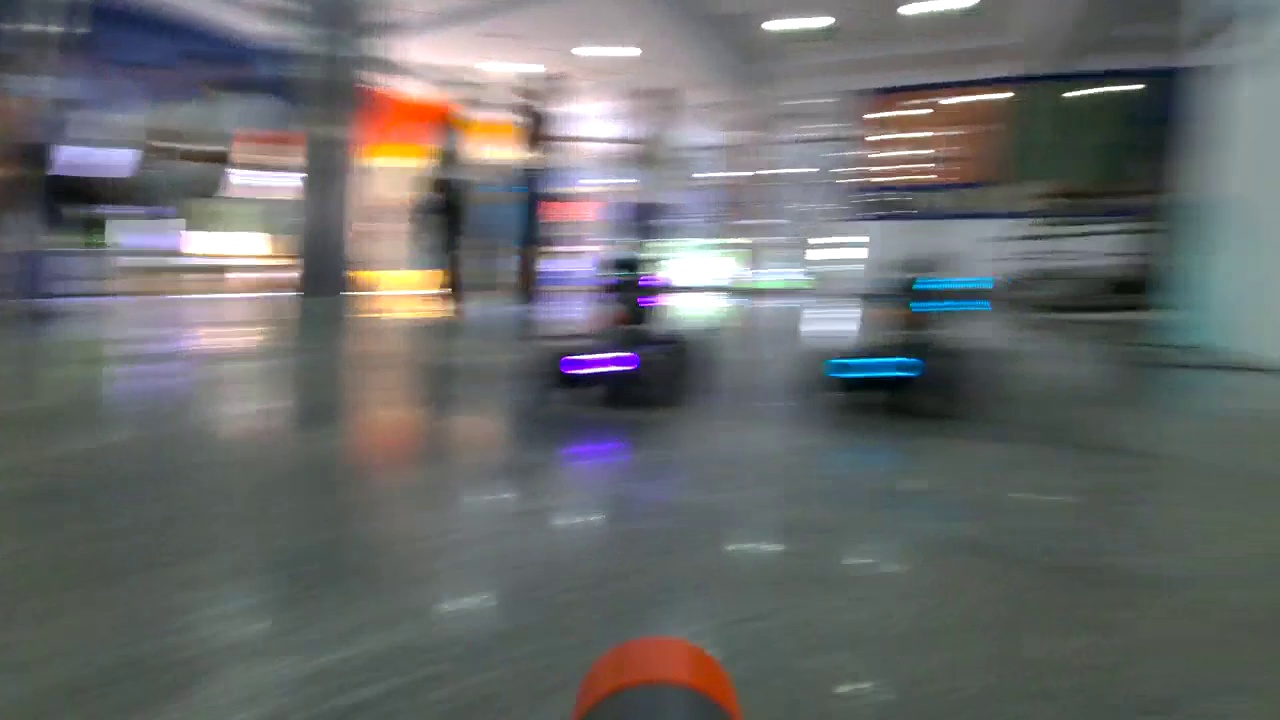robot: (816, 276, 1015, 417), (559, 261, 690, 408)
